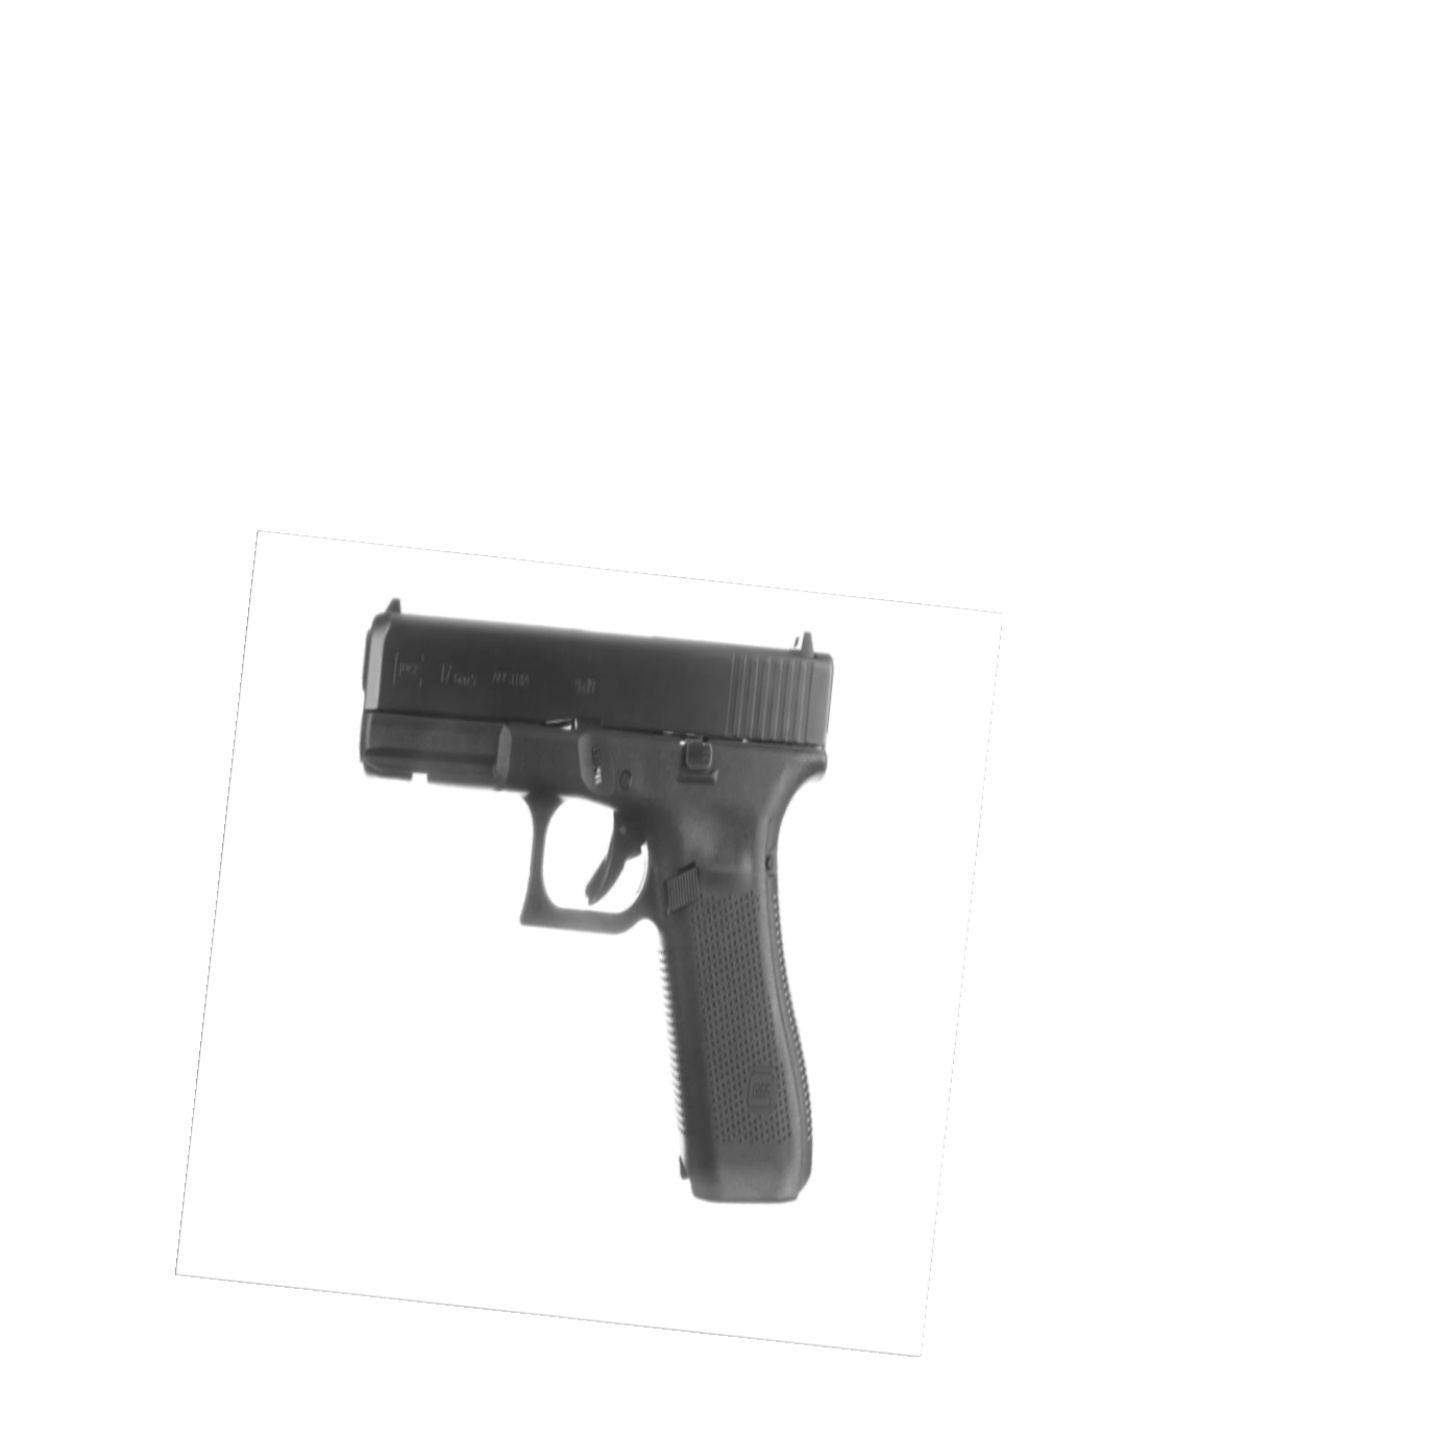gun: (348, 587, 843, 1215)
